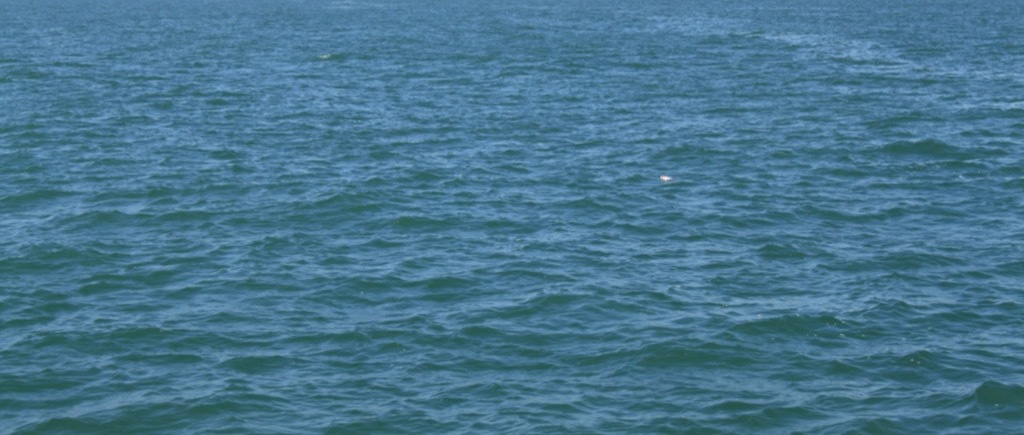plastic: (651, 164, 681, 190)
